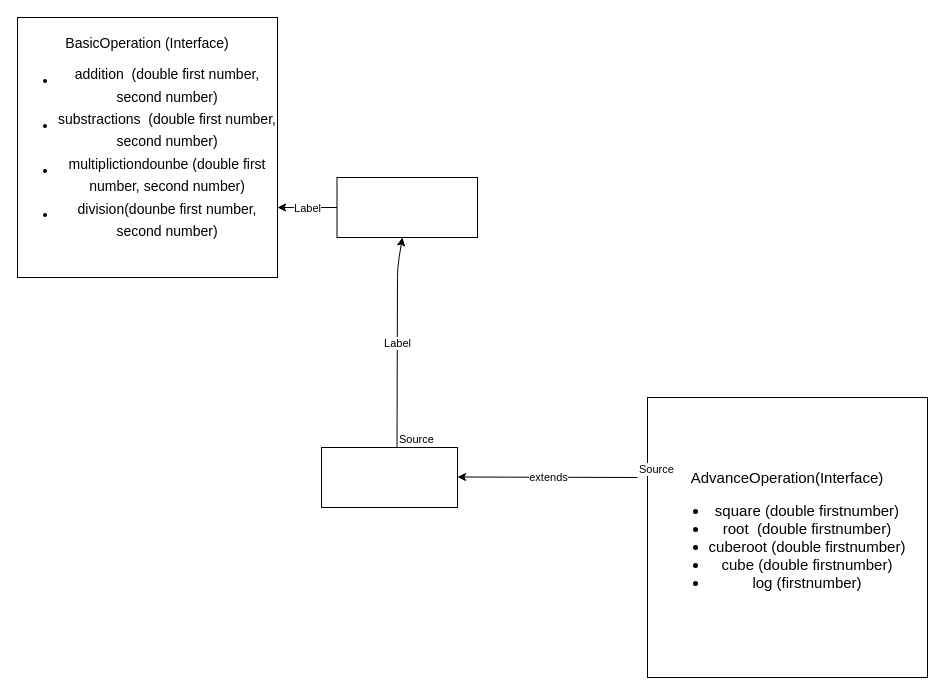
Some shapes in this 945 by 695 pixel diagram are drawn without their labels. Each missing label, with the centre of its shape:
"AdvanceCalculator(class)" goes at point (389, 477).
"BasicCalculator(class)" goes at point (407, 207).
